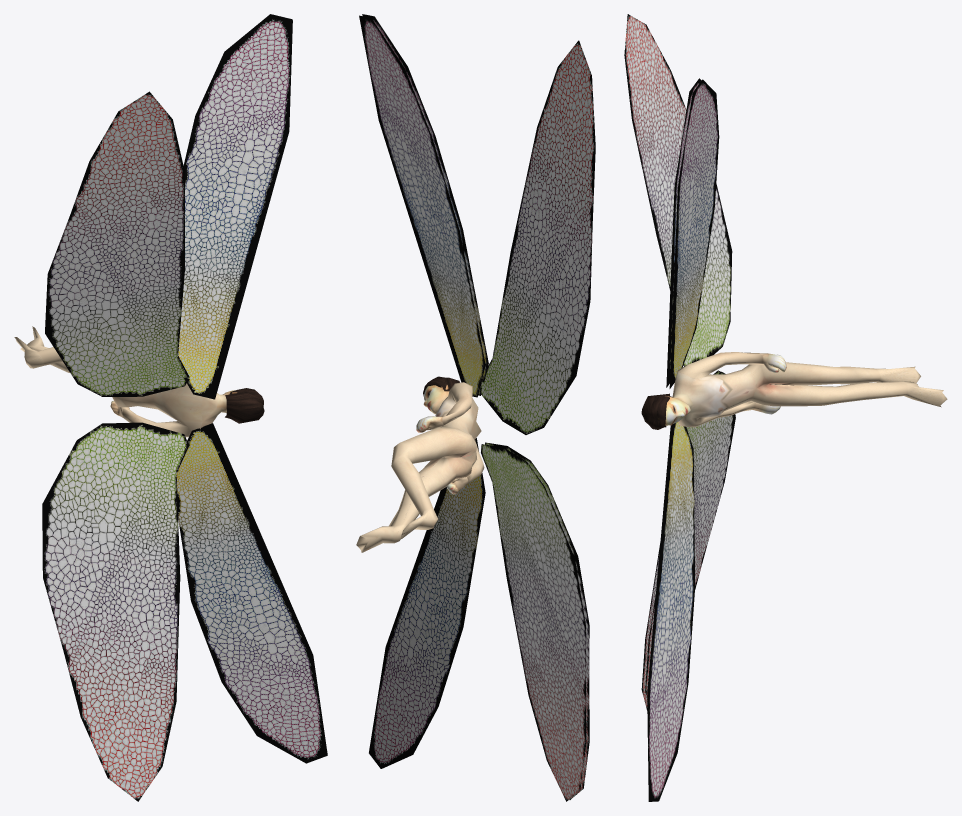
File: angel_000030.obj
3 views of the same model, side by side, from view 1: azimuth 30°, elevation 25°; view 2: azimuth 150°, elevation 25°; view 3: azimuth 270°, elevation 25° (orthographic). The views are drawn at different scales.
Parts seen in each view (by area): view 1: Plane.001, Plane.002, Plane.003, Plane, body.001_omino.012, hair.003_omino.013; view 2: Plane.002, Plane.001, Plane, Plane.003, body.001_omino.012; view 3: Plane.002, Plane, body.001_omino.012, Plane.003, Plane.001, hair.003_omino.013.
Part boxes in pixels (x1,y1,x2,y2): Plane.001: (42,422,188,801); Plane.002: (45,91,189,396); Plane.003: (178,14,292,399); Plane: (176,423,327,763); body.001_omino.012: (14,326,237,437); hair.003_omino.013: (225,388,264,423); Plane.002: (480,40,595,434); Plane.001: (481,442,589,801); Plane: (369,438,485,768); Plane.003: (359,14,488,397); body.001_omino.012: (356,382,484,552); Plane.002: (624,14,732,366); Plane: (647,422,694,801); body.001_omino.012: (657,352,947,427); Plane.003: (666,78,719,388); Plane.001: (641,370,735,710); hair.003_omino.013: (641,393,672,429).
Size of the model in its own units: 2.46 by 6.99 by 2.86.
